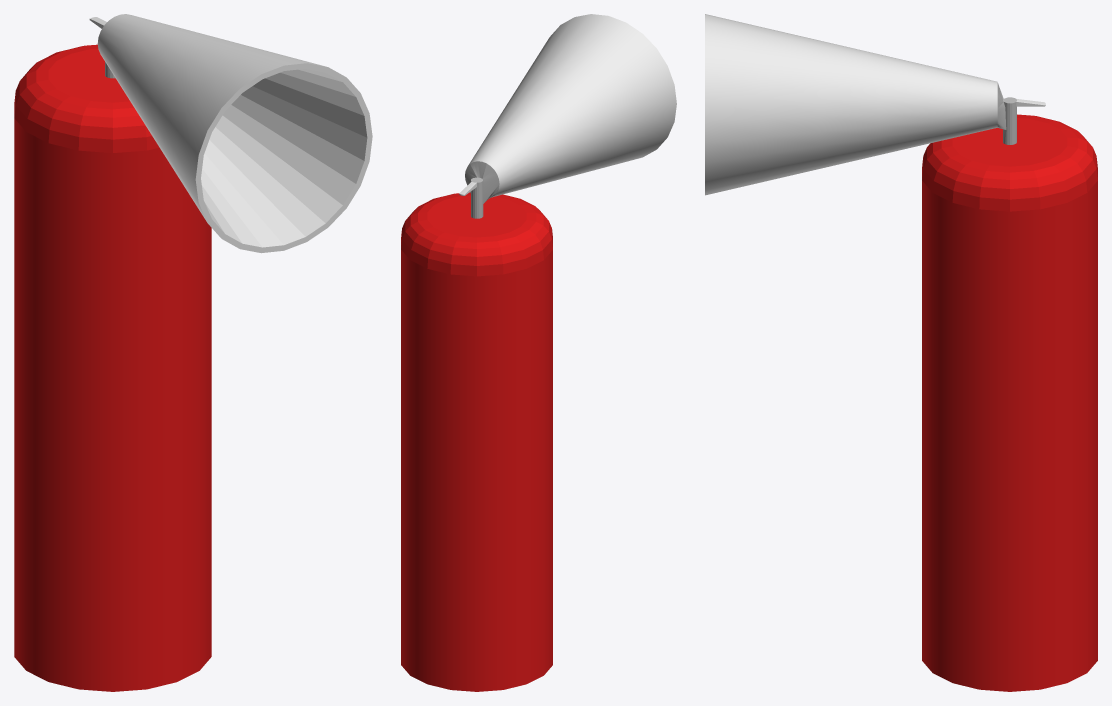
The model's file is FireExt.FBX.
3 renders of one model, left to right at view 1: azimuth 30°, elevation 25°; view 2: azimuth 150°, elevation 25°; view 3: azimuth 270°, elevation 25°, orthographic. The views are drawn at different scales.
Parts seen in each view (by area): view 1: Cone001; view 2: Cone001; view 3: Cone001.
Boxes of the visible parts, bbox=[...] form: Cone001: bbox=[14, 14, 372, 691]; Cone001: bbox=[401, 14, 676, 691]; Cone001: bbox=[705, 14, 1097, 691].
Size of the model in its own units: 63.42 by 243 by 137.
